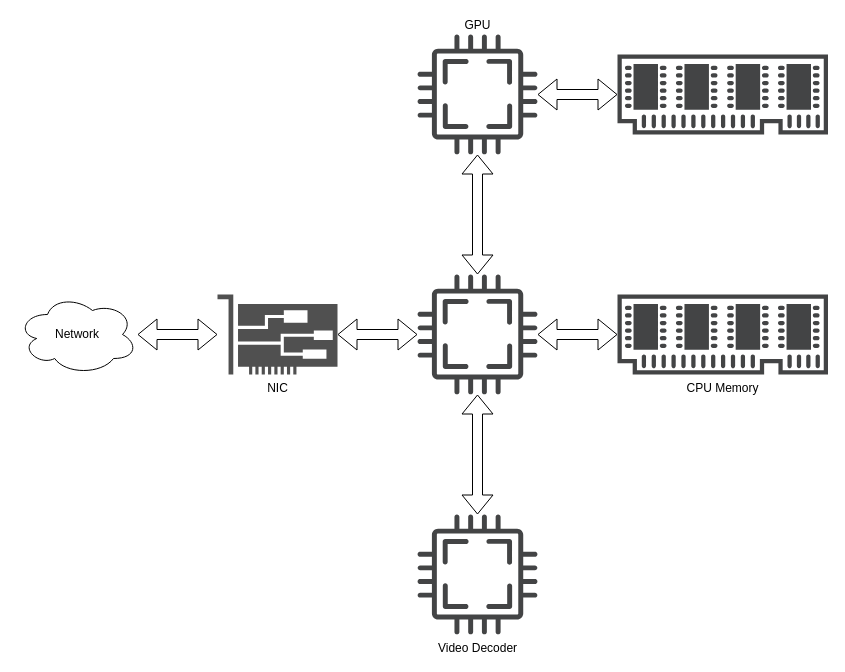
Image size: 845x672. Some labels were removed from this diagram. Each missing label, with the centre of its shape:
"CPU" goes at point 477,334.
"GPU Memory" goes at point 722,94.
